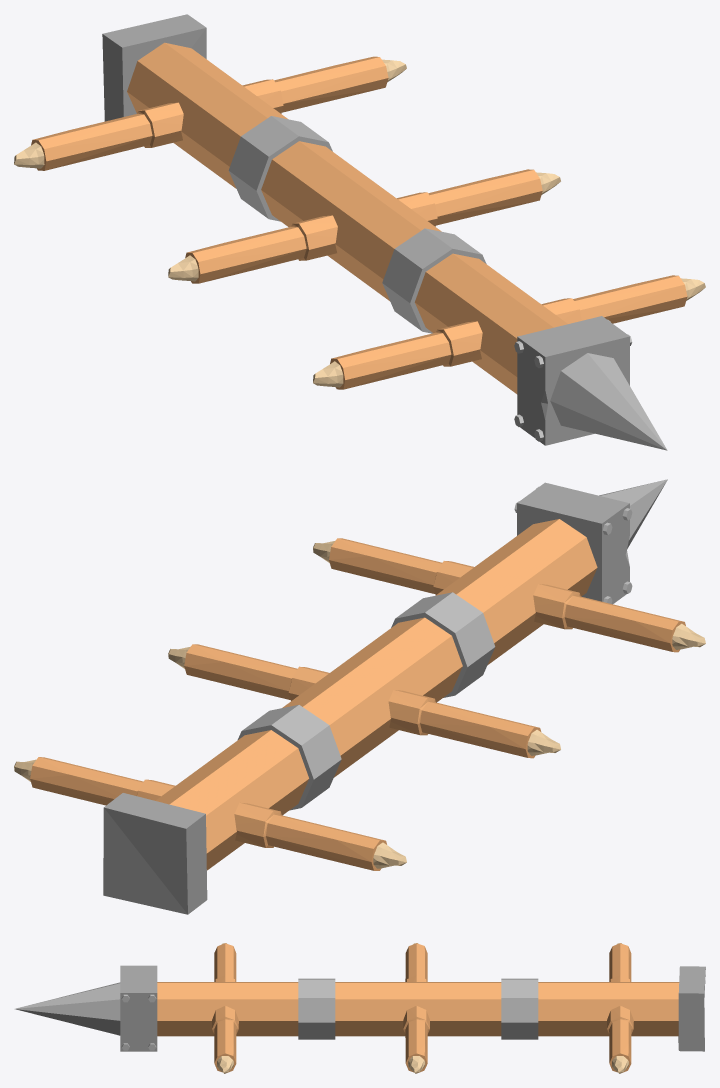
The model's file is battle_ram.02.fbx.
3 renders of one model, top to bottom at view 1: azimuth 30°, elevation 25°; view 2: azimuth 150°, elevation 25°; view 3: azimuth 270°, elevation 25°, orthographic. The views are drawn at different scales.
Visible parts, largest first — view 1: battle_ram.02; view 2: battle_ram.02; view 3: battle_ram.02.
Part boxes in pixels (x1,y1,x2,y2): battle_ram.02: (14, 14, 705, 450); battle_ram.02: (14, 479, 705, 914); battle_ram.02: (15, 943, 705, 1073).
Size of the model in its own units: 2.23 by 0.4865 by 5.15.
